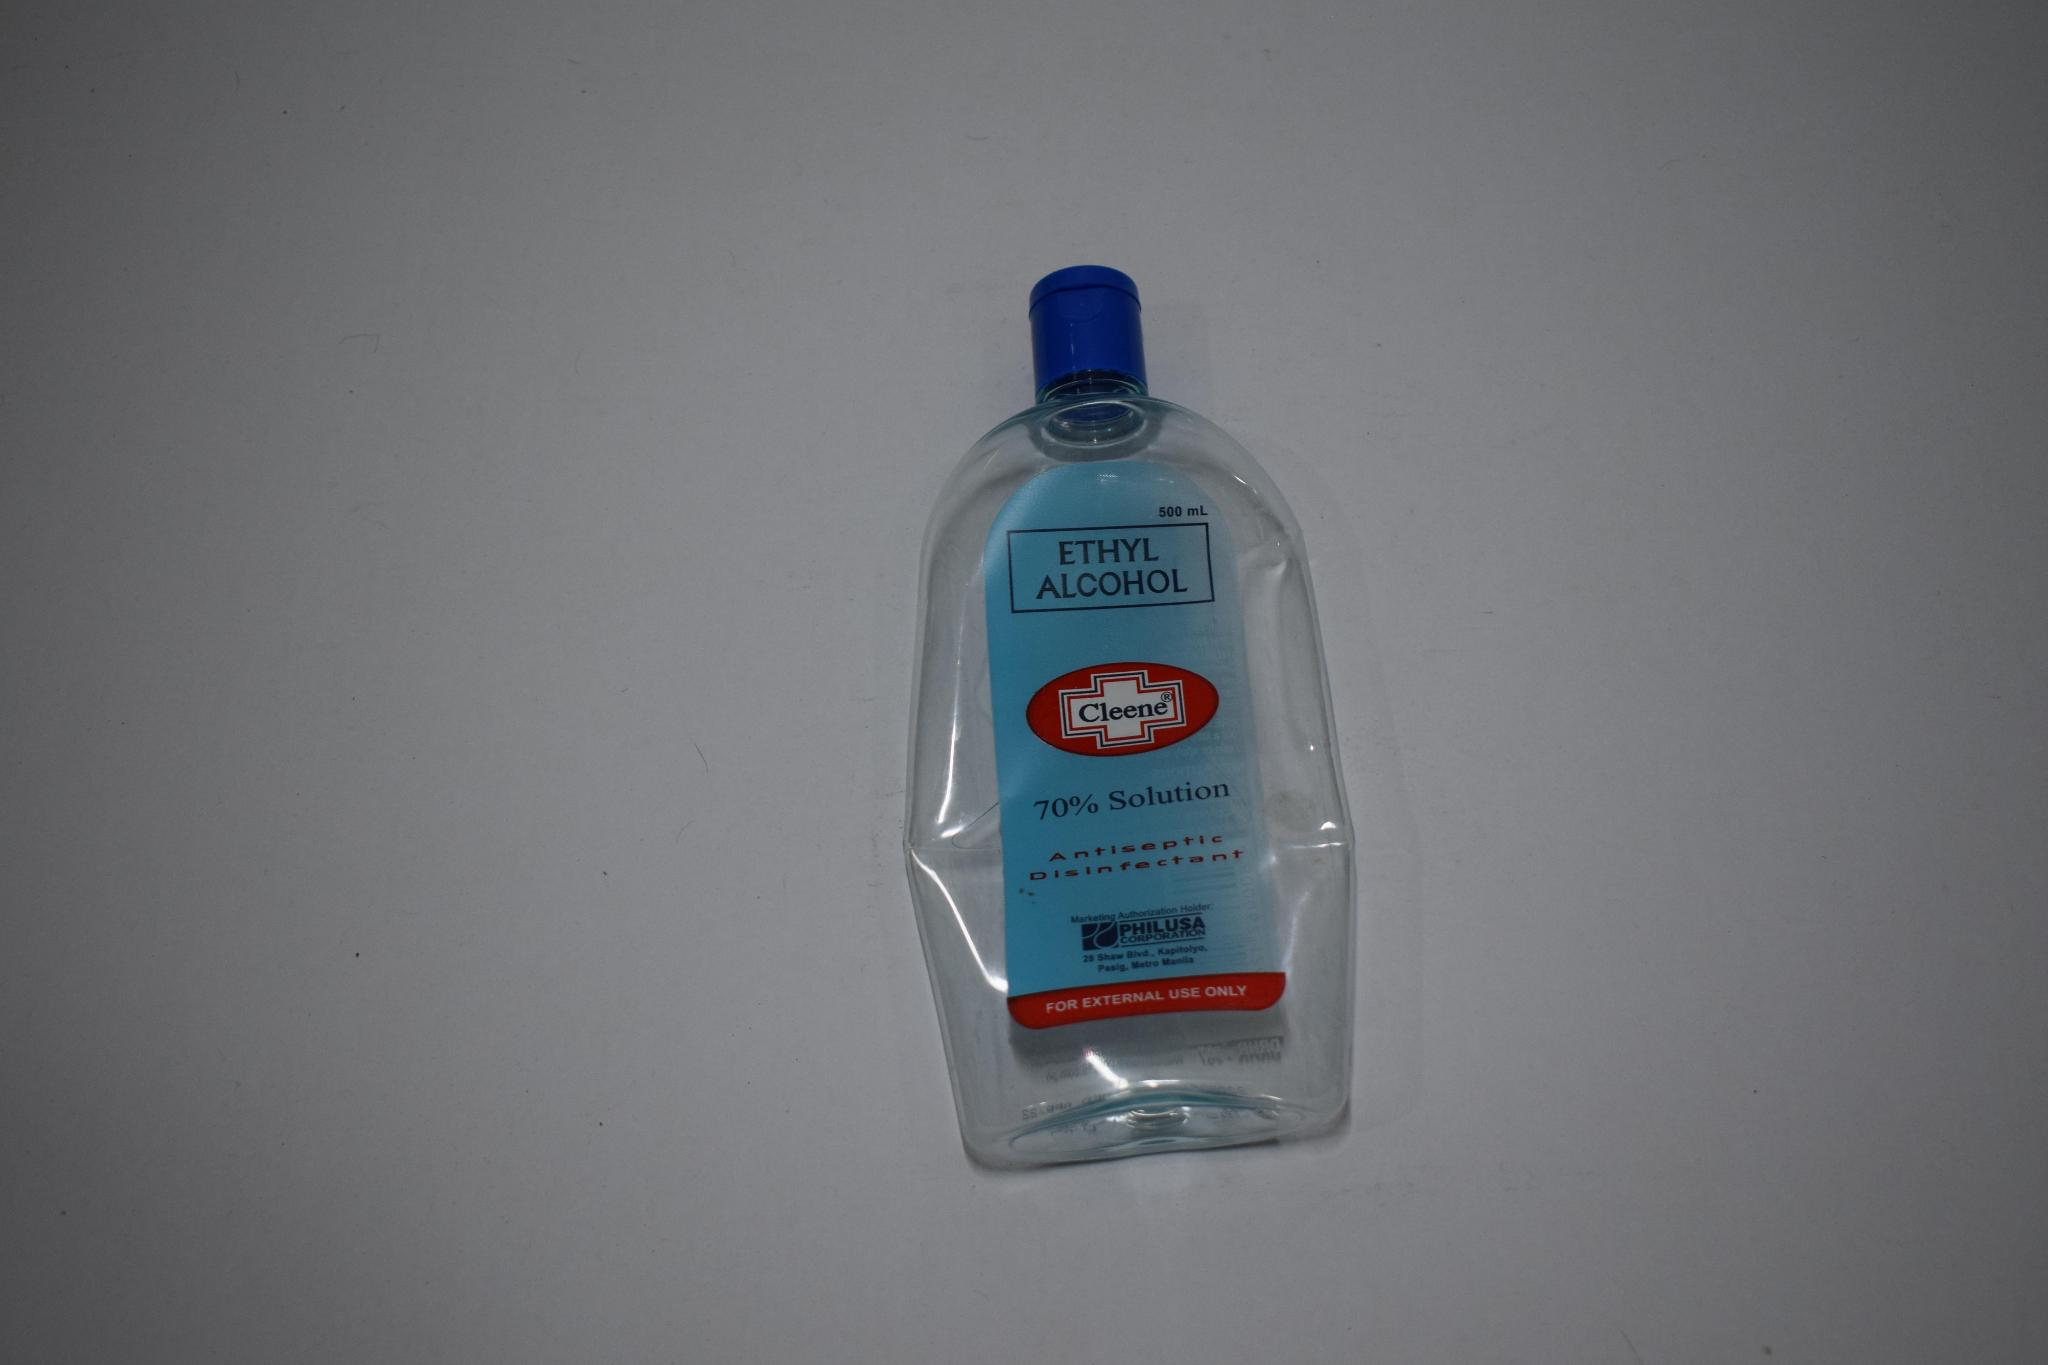bottle: (879, 238, 1408, 1185)
